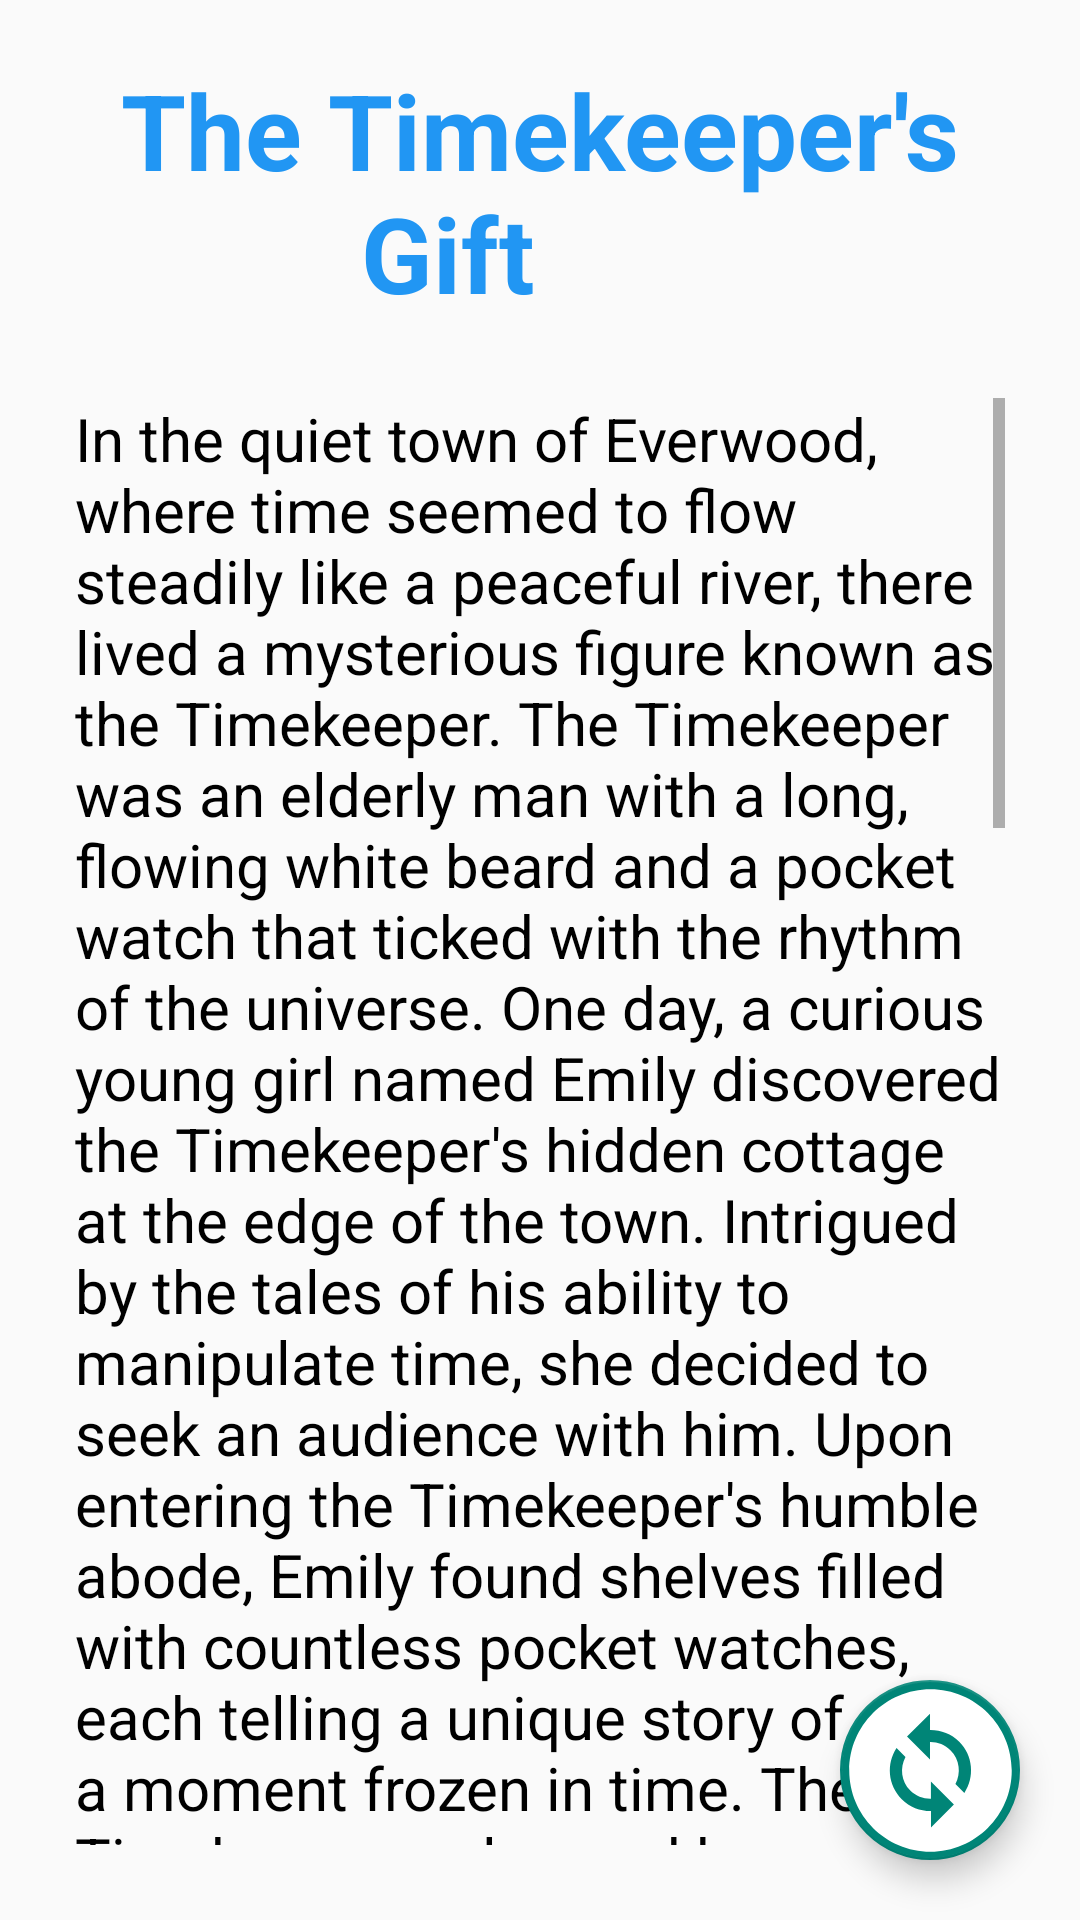

Where icons sit on this 1080px x 1920px app screen, as (x1, y1, x2, y2):
change circle: (840, 1680, 1020, 1860)
